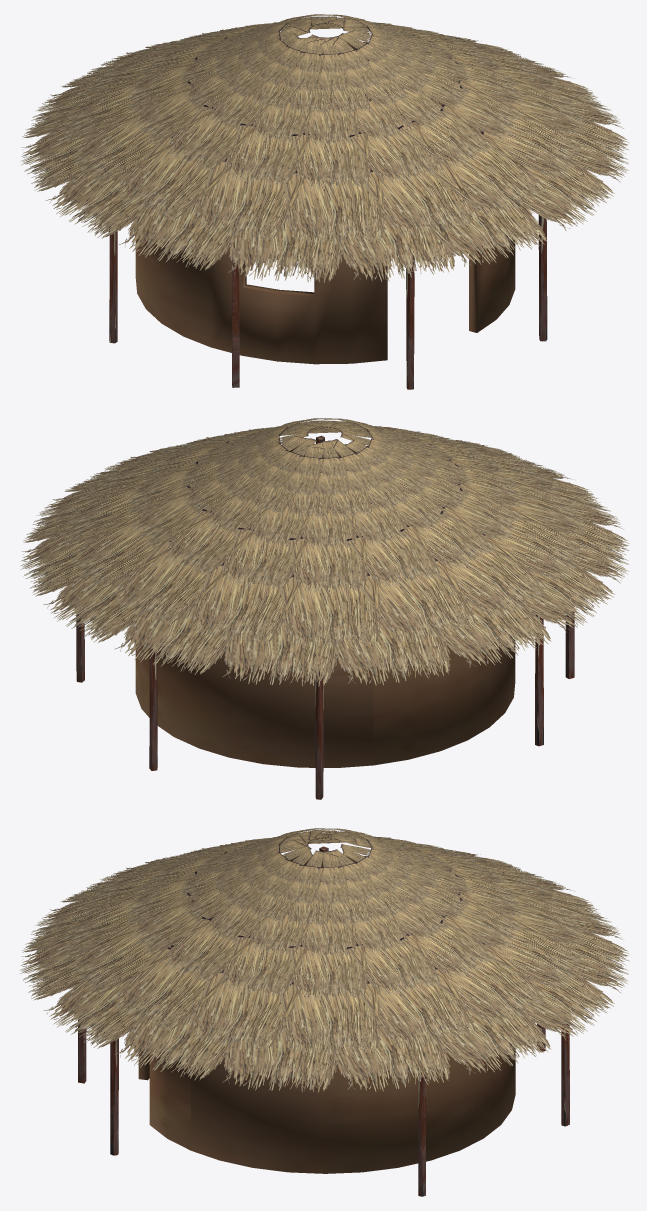
File: Hut.fbx
3 renders of one model, top to bottom at view 1: azimuth 30°, elevation 25°; view 2: azimuth 150°, elevation 25°; view 3: azimuth 270°, elevation 25°, orthographic.
Visible parts, largest first — view 1: Prop; view 2: Prop; view 3: Prop.
Part boxes in pixels (x1,y1,x2,y2): Prop: [20, 14, 629, 389]; Prop: [20, 418, 629, 799]; Prop: [19, 828, 629, 1196].
Bounding box in the file's own units: 0.5655 × 0.2613 × 0.5722.
3 materials, 3 textured.
